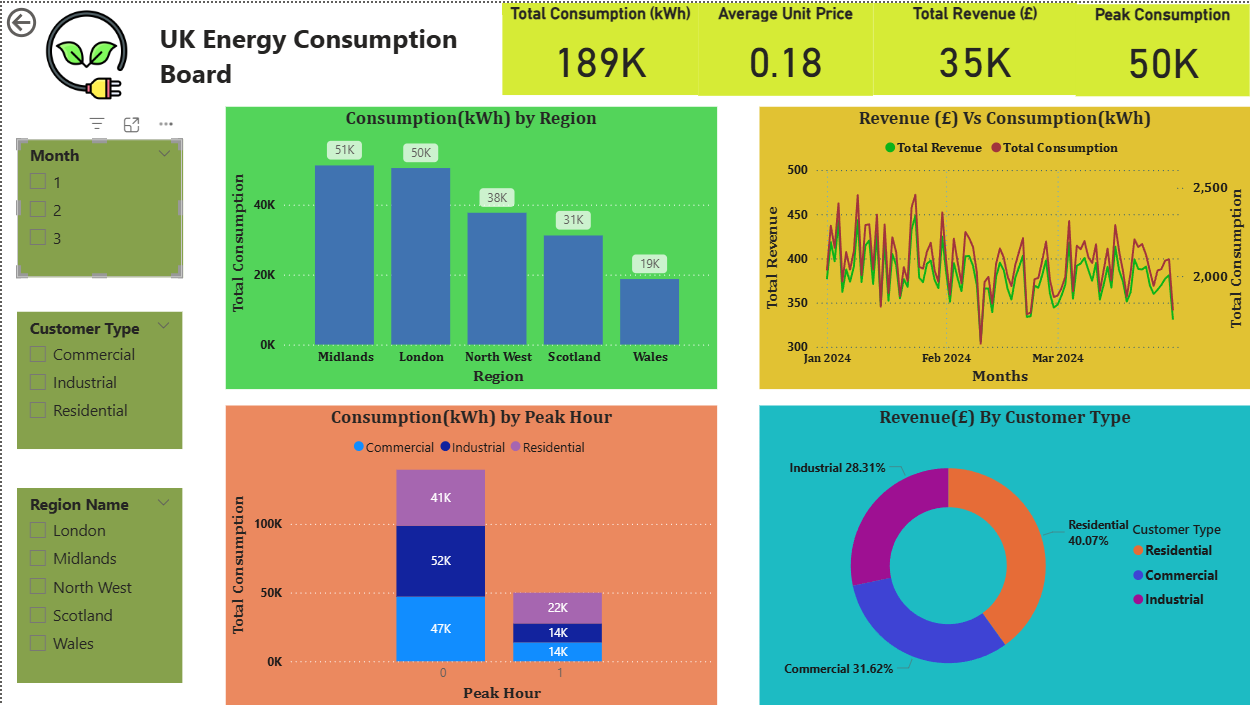

What the dashboard file says about the page in this screenshot:
{"tool":"powerbi","page":{"name":"Page 1","canvas":[1280,720],"ordinal":0},"visuals":[{"type":"slicer","fields":{"Values":["Stg_Customers.CustomerType"]},"box":[15.4,316.7,169.2,141],"z":0},{"type":"slicer","fields":{"Values":["Stg_Region.RegionName"]},"box":[15.4,497.4,169.2,200],"z":1000},{"type":"slicer","fields":{"Values":["Dim_Date.Month"]},"box":[15.1,140,170.2,141.3],"z":2000},{"type":"card","title":"Total Consumption (kWh)","fields":{"Values":["Fact_Energy_Clean.Total_Consumption(kWh)"]},"box":[512.8,0,202.6,94.9],"z":3000},{"type":"card","title":"Total Revenue (£)","fields":{"Values":["Fact_Energy_Clean.Total Revenue (£)"]},"box":[893.6,0,207.7,94.9],"z":4000},{"type":"card","title":"Average Unit Price","fields":{"Values":["Fact_Energy_Clean.Average_Unit_Price"]},"box":[714.1,0,179.5,94.9],"z":5000},{"type":"card","title":"Peak Consumption","fields":{"Values":["Fact_Energy_Clean.Peak_Consumption"]},"box":[1101.3,1.3,179.5,93.6],"z":6000},{"type":"lineChart","title":"Revenue (£) Vs Consumption(kWh)","fields":{"Category":["Dim_Date.Date"],"Y":["Fact_Energy_Clean.Total Revenue (£)"],"Y2":["Fact_Energy_Clean.Total_Consumption(kWh)"]},"box":[776.7,107,503.6,289.5],"z":7000},{"type":"lineClusteredColumnComboChart","title":"Consumption(kWh) by Region","fields":{"Category":["Stg_Region.RegionName"],"Y":["Fact_Energy_Clean.Total_Consumption(kWh)"]},"box":[229.2,107,503.6,289.5],"z":8000},{"type":"columnChart","title":"Consumption(kWh) by Peak Hour","fields":{"Y":["Fact_Energy_Clean.Total_Consumption(kWh)"],"Series":["Stg_Customers.CustomerType"],"Category":["Fact_Energy_Clean.PeakHourFlag"]},"box":[229.5,412.8,503.8,307.7],"z":9000},{"type":"actionButton","box":[0,0,100,40],"z":10000},{"type":"textbox","box":[156.4,12.3,356.8,82.3],"z":11000},{"type":"image","box":[35.7,0,101.5,107],"z":12000},{"type":"donutChart","title":"Revenue(£) By Customer Type","fields":{"Y":["Fact_Energy_Clean.Total Revenue (£)"],"Category":["Stg_Customers.CustomerType"]},"box":[776.7,413,503.6,307.4],"z":13000}]}

Visuals, with their boxes in screenshot pixels (x1, y1, x2, y2), scaled from the page's 1280x720 canvas onto the 1250x705 screenshot:
slicer - Stg_Customers.CustomerType: left=15, top=310, right=180, bottom=448
slicer - Stg_Region.RegionName: left=15, top=487, right=180, bottom=683
slicer - Dim_Date.Month: left=15, top=137, right=181, bottom=275
"Total Consumption (kWh)" card: left=501, top=0, right=699, bottom=93
"Total Revenue (£)" card: left=873, top=0, right=1075, bottom=93
"Average Unit Price" card: left=697, top=0, right=873, bottom=93
"Peak Consumption" card: left=1075, top=1, right=1249, bottom=93
"Revenue (£) Vs Consumption(kWh)" lineChart: left=758, top=105, right=1249, bottom=388
"Consumption(kWh) by Region" lineClusteredColumnComboChart: left=224, top=105, right=716, bottom=388
"Consumption(kWh) by Peak Hour" columnChart: left=224, top=404, right=716, bottom=704
actionButton: left=0, top=0, right=98, bottom=39
textbox: left=153, top=12, right=501, bottom=93
image: left=35, top=0, right=134, bottom=105
"Revenue(£) By Customer Type" donutChart: left=758, top=404, right=1249, bottom=704
